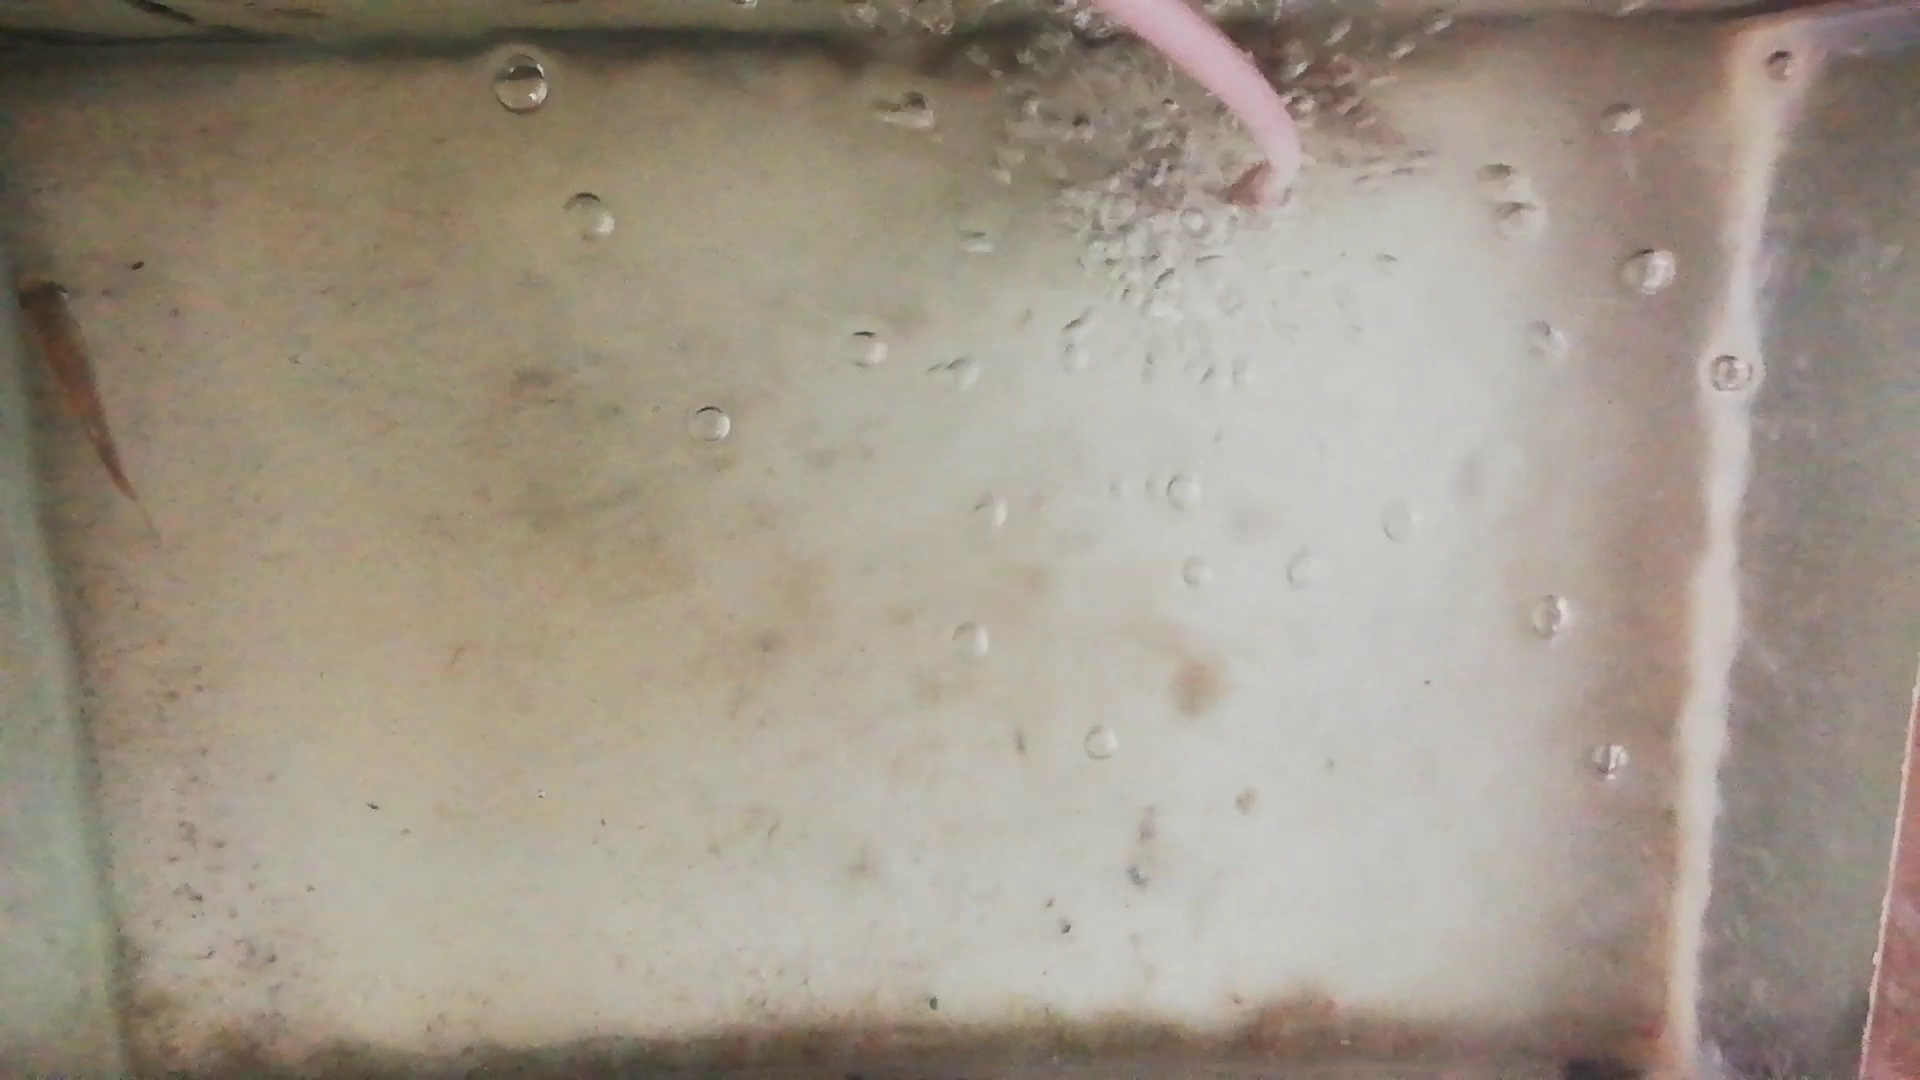fish: (18, 274, 133, 498), (1255, 54, 1403, 132)
